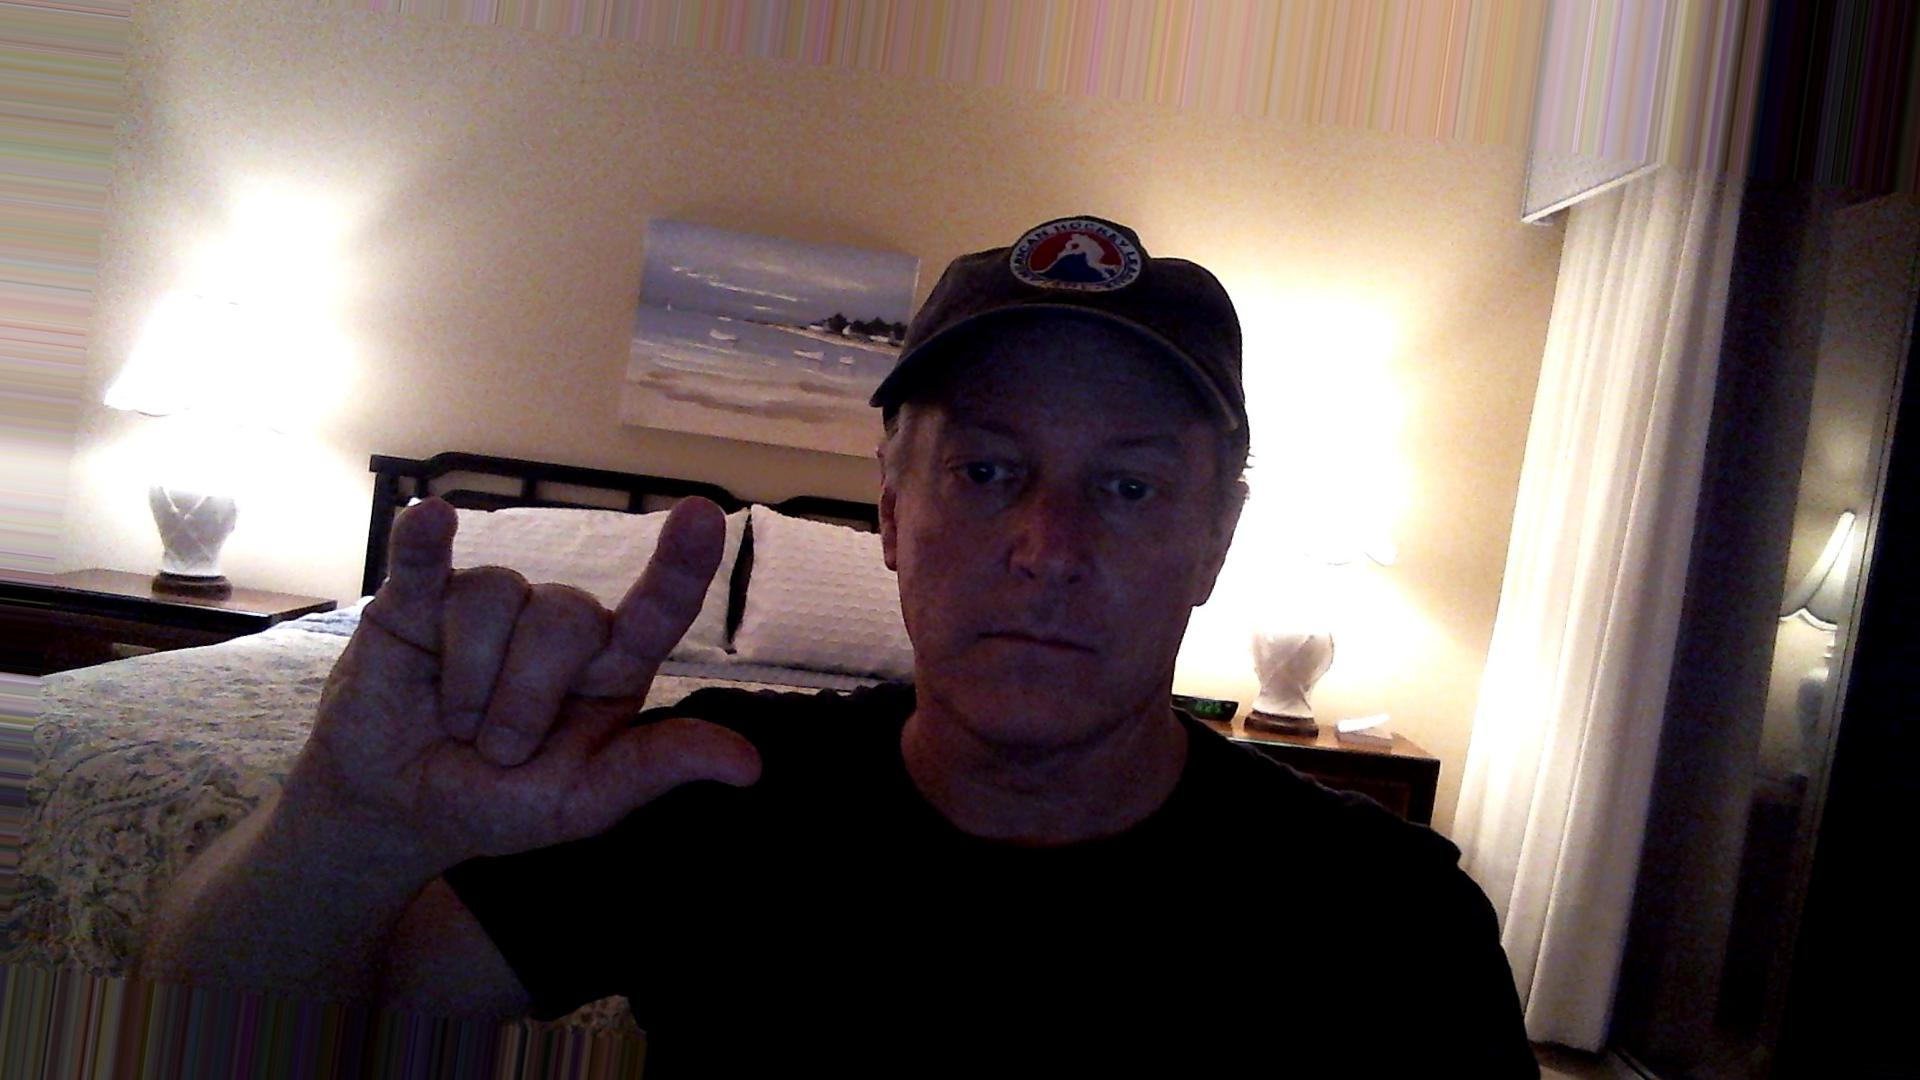I Love You: (289, 460, 781, 870)
